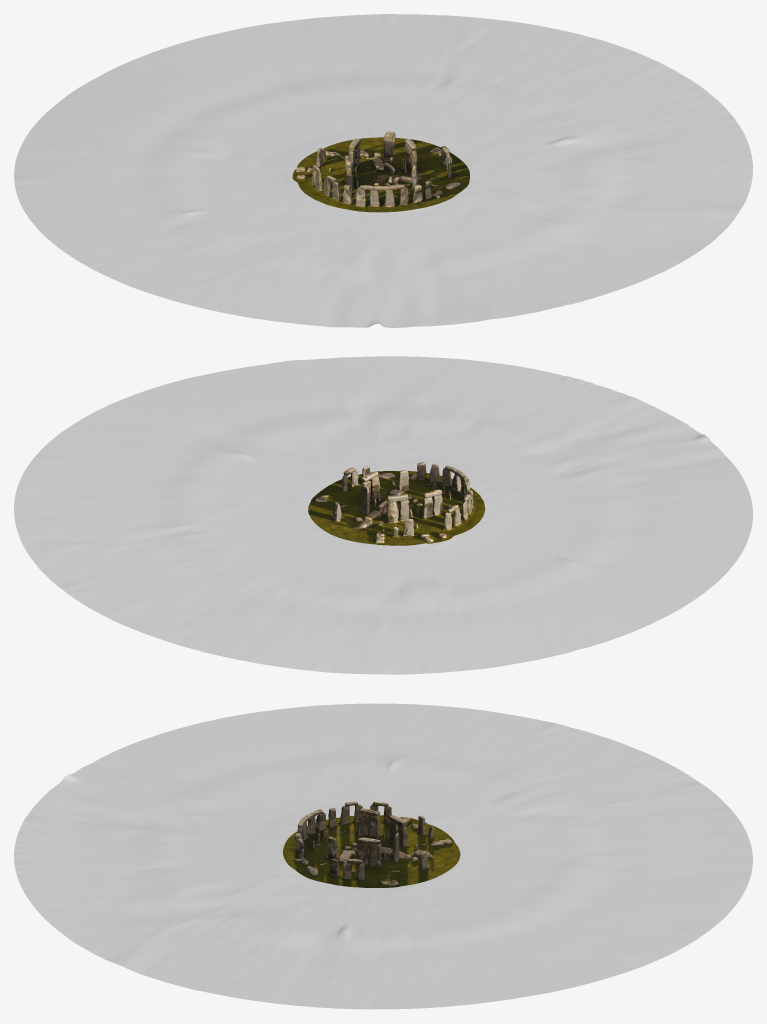
Rendered from Stonehenge.fbx.
3 renders of one model, top to bottom at view 1: azimuth 30°, elevation 25°; view 2: azimuth 150°, elevation 25°; view 3: azimuth 270°, elevation 25°, orthographic.
Parts seen in each view (by area): view 1: Stonehenge; view 2: Stonehenge; view 3: Stonehenge.
Part boxes in pixels (bbox=[...]): Stonehenge: bbox=[14, 14, 752, 327]; Stonehenge: bbox=[14, 356, 752, 674]; Stonehenge: bbox=[14, 703, 752, 1009].
Size of the model in its own units: 2492 by 131 by 2492.
